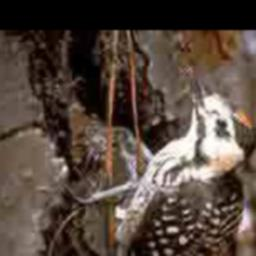Woodpecker: (78, 53, 256, 256)
